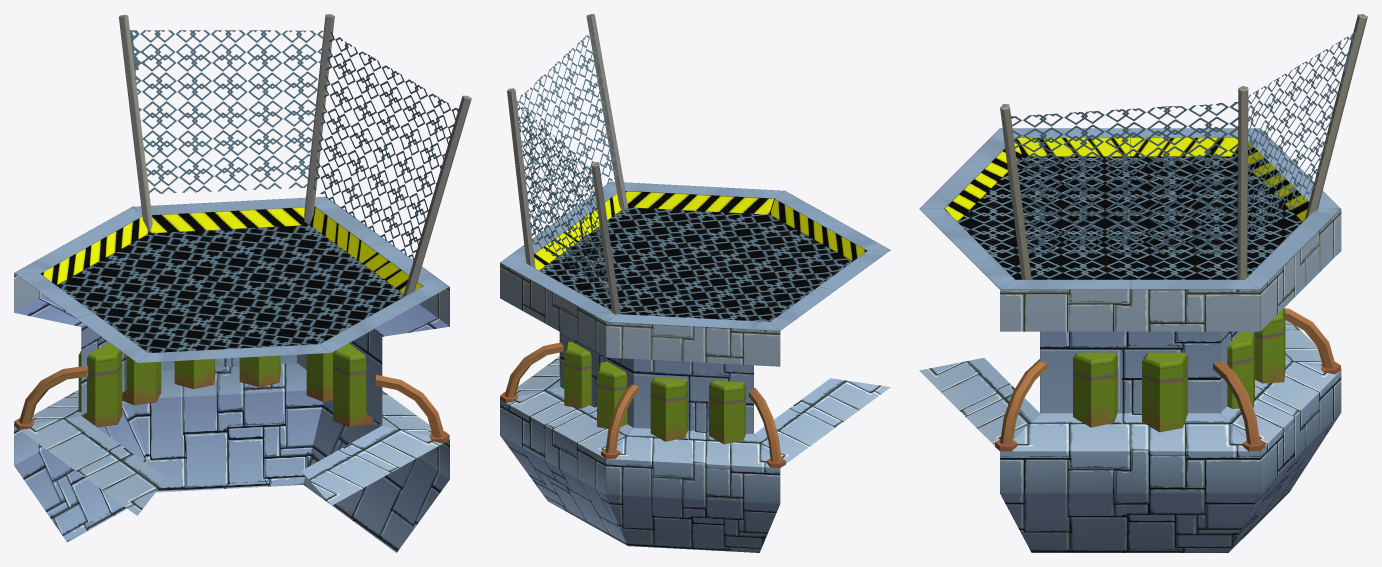
Rendered from JC_ModPanels_EnemyTile_IV.obj.
3 renders of one model, left to right at view 1: azimuth 30°, elevation 25°; view 2: azimuth 150°, elevation 25°; view 3: azimuth 270°, elevation 25°, orthographic. The views are drawn at different scales.
Parts seen in each view (by area): view 1: polySurface63; view 2: polySurface63; view 3: polySurface63.
Part boxes in pixels (x1,y1,x2,y2): polySurface63: (14,14,471,552); polySurface63: (500,14,890,552); polySurface63: (919,14,1367,552).
Size of the model in its own units: 420 by 542 by 457.
1 material, 1 textured.
